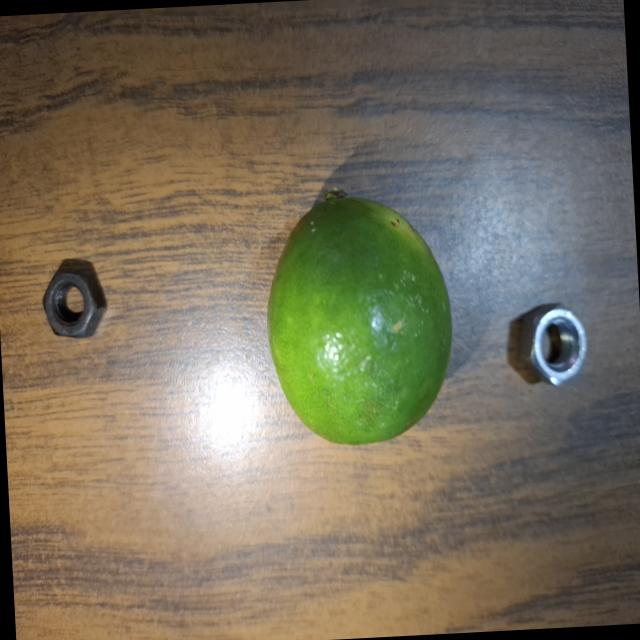limon: (258, 174, 462, 454)
milimetrico: (34, 256, 117, 347)
tuerca: (512, 288, 604, 392)
